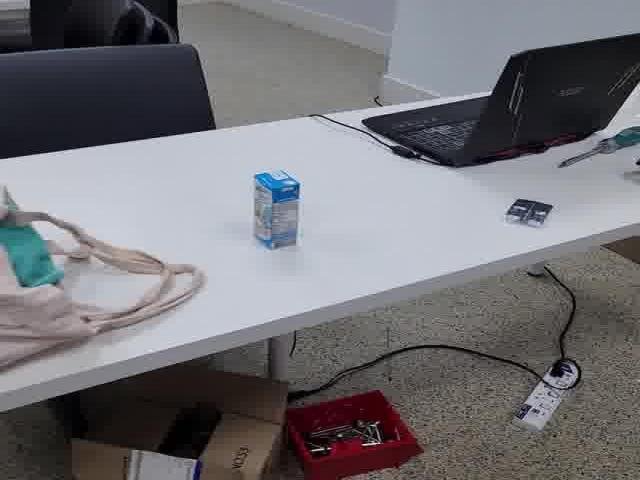drink_box: (242, 164, 310, 259)
